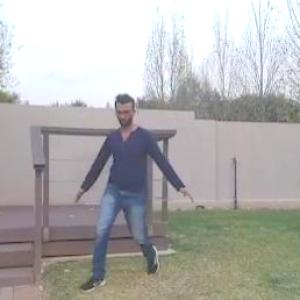land: (71, 88, 193, 299)
